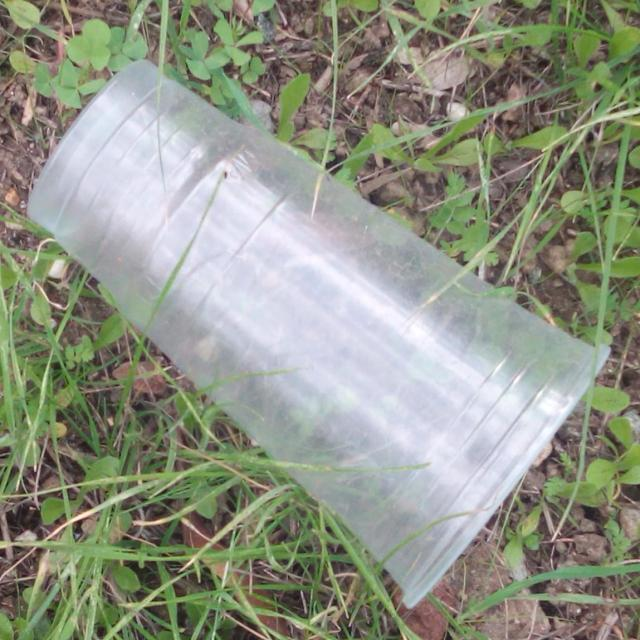litter: (14, 33, 638, 613)
